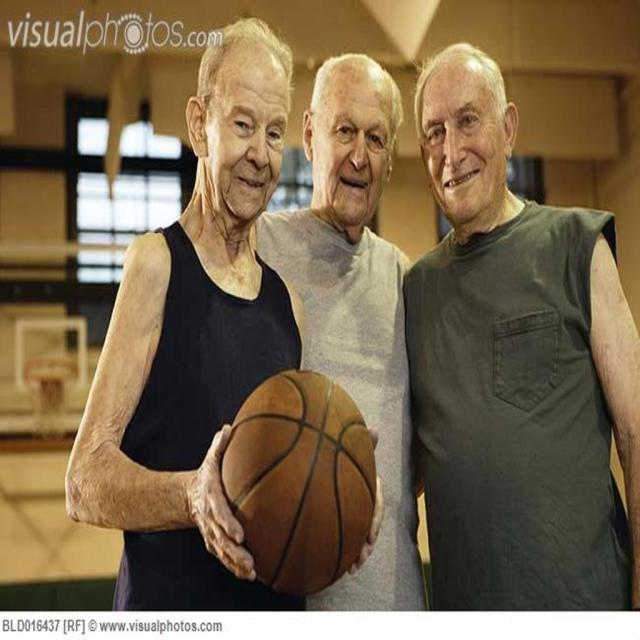Face: (200, 31, 290, 237), (419, 55, 518, 231), (311, 64, 399, 230)
